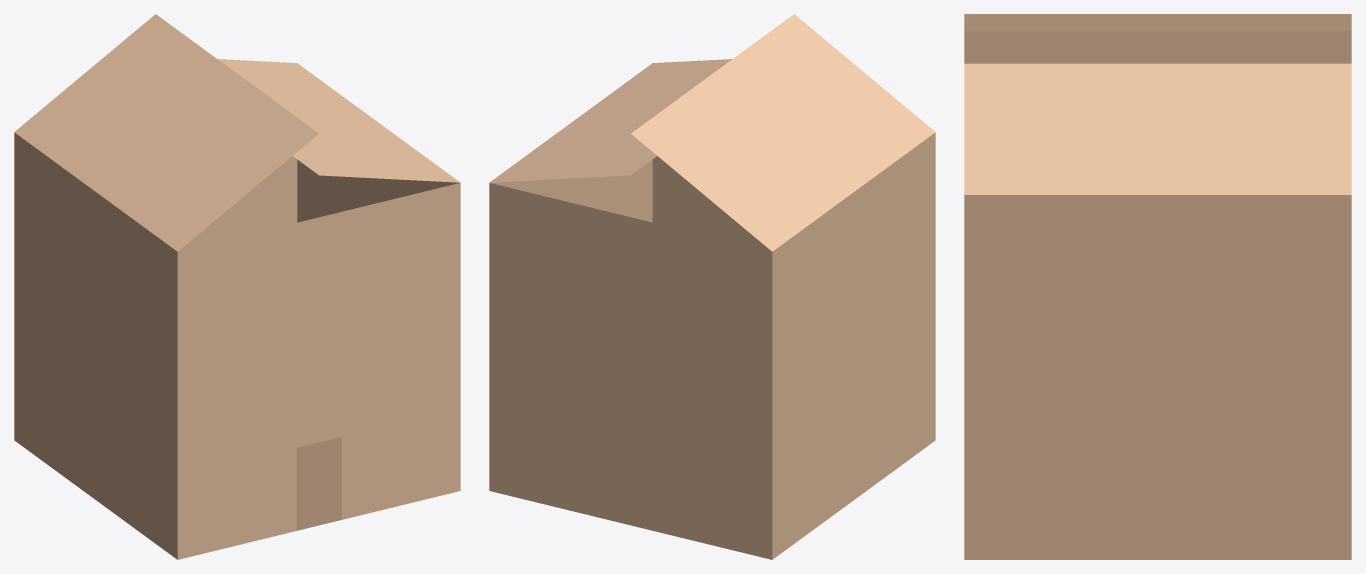
File: cardboardBoxClosed.glb
The picture shows the model from 3 angles, left to right: view 1: azimuth 30°, elevation 25°; view 2: azimuth 150°, elevation 25°; view 3: azimuth 270°, elevation 25°; orthographic projection. The views are drawn at different scales.
Parts seen in each view (by area): view 1: cardboardBoxClosed(Clone); view 2: cardboardBoxClosed(Clone); view 3: cardboardBoxClosed(Clone).
Part boxes in pixels (bbox=[...]): cardboardBoxClosed(Clone): bbox=[14, 14, 460, 559]; cardboardBoxClosed(Clone): bbox=[489, 14, 935, 559]; cardboardBoxClosed(Clone): bbox=[964, 14, 1351, 559].
Size of the model in its own units: 0.2125 by 0.281 by 0.2125.
